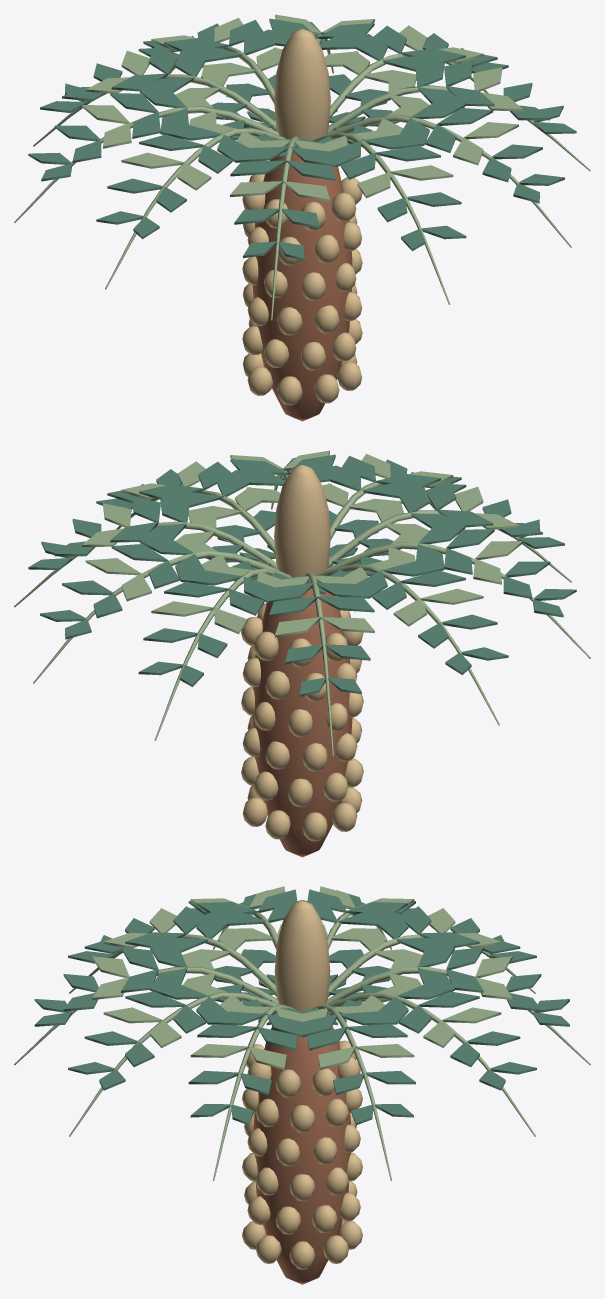
File: primeval-frontier-cycad-seed-cone-9708bf37__1729.glb
3 renders of one model, top to bottom at view 1: azimuth 30°, elevation 25°; view 2: azimuth 150°, elevation 25°; view 3: azimuth 270°, elevation 25°, orthographic. The views are drawn at different scales.
Parts seen in each view (by area): view 1: cycad-seed-cone; view 2: cycad-seed-cone; view 3: cycad-seed-cone.
Part boxes in pixels (x1,y1,x2,y2): cycad-seed-cone: [14, 14, 590, 421]; cycad-seed-cone: [14, 450, 590, 857]; cycad-seed-cone: [14, 886, 590, 1284].
Bounding box in the file's own units: 2.77 × 2.13 × 2.91.
